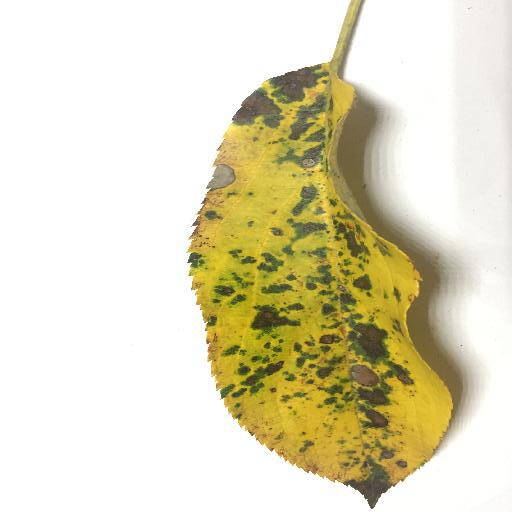Brown_Spot: (160, 43, 480, 512)
